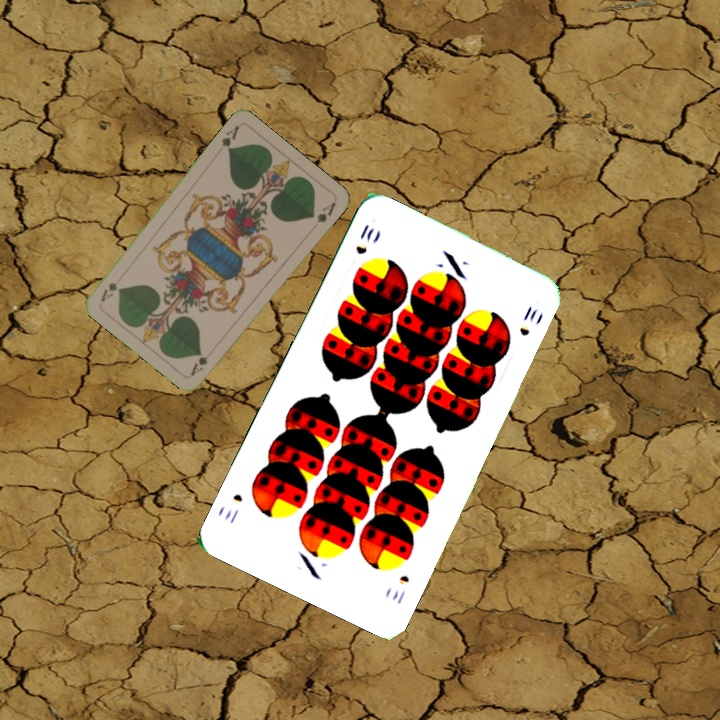GA: (186, 348, 214, 379), (217, 121, 242, 154)
S10: (351, 220, 377, 258), (388, 571, 412, 607)
